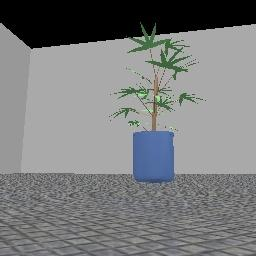planta: (111, 24, 203, 180)
